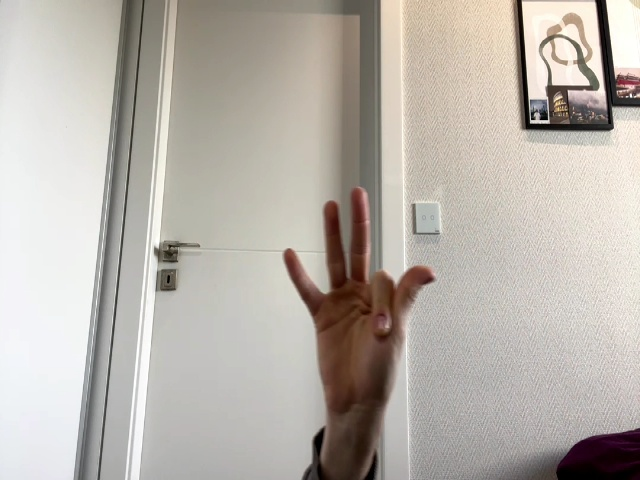F: (284, 187, 435, 405)
